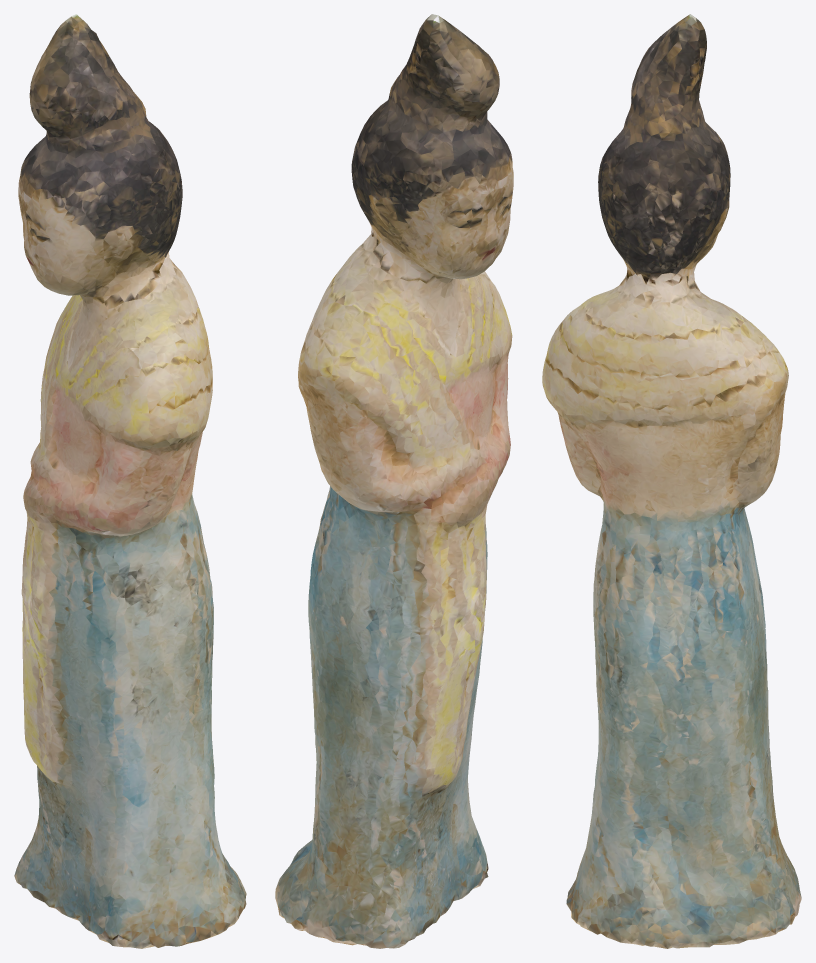
File: statuette.glb
3 renders of one model, left to right at view 1: azimuth 30°, elevation 25°; view 2: azimuth 150°, elevation 25°; view 3: azimuth 270°, elevation 25°, orthographic. The views are drawn at different scales.
Visible parts, largest first — view 1: Object_2.001; view 2: Object_2.001; view 3: Object_2.001.
Part boxes in pixels (box(x1,y1,x2,y2)): Object_2.001: box(14, 14, 246, 948); Object_2.001: box(275, 14, 513, 948); Object_2.001: box(542, 14, 801, 948).
Bounding box in the file's own units: 3.84 × 15.91 × 4.3.
Materials: 1 (1 with a texture image).
